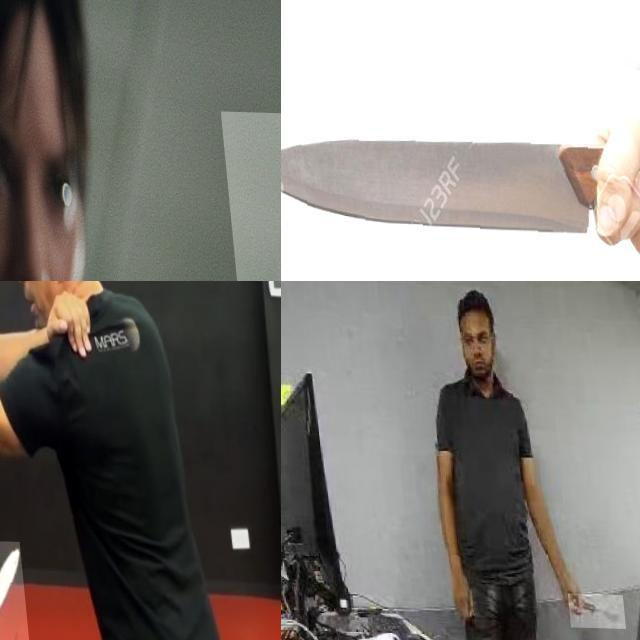-: (281, 57, 640, 269), (0, 538, 42, 640), (558, 592, 616, 626)
